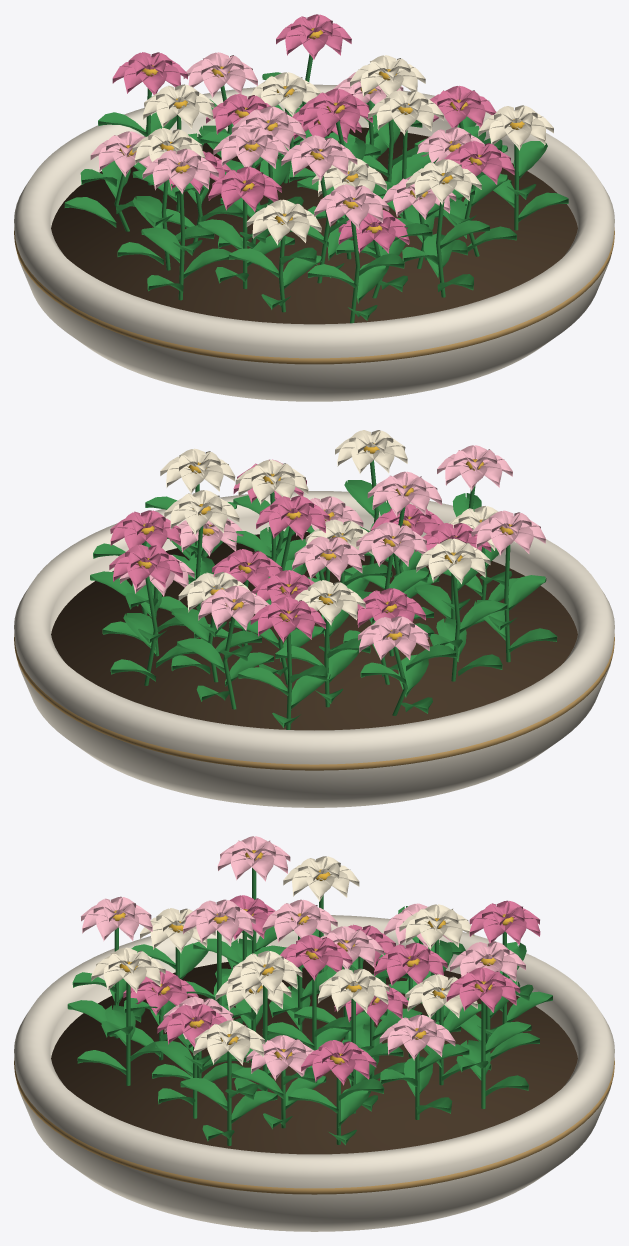
The model's file is Flowers.glb.
3 views of the same model, one above another, from view 1: azimuth 30°, elevation 25°; view 2: azimuth 150°, elevation 25°; view 3: azimuth 270°, elevation 25° (orthographic).
Visible parts, largest first — view 1: Pale Carved Stone, Planter Dark Earth, Flower Jade Foliage, Ivory Petal Silk, Blush Petal Silk, Rose Petal Silk, Aged Gold, Golden Pollen; view 2: Pale Carved Stone, Planter Dark Earth, Flower Jade Foliage, Blush Petal Silk, Rose Petal Silk, Ivory Petal Silk, Aged Gold, Golden Pollen; view 3: Pale Carved Stone, Planter Dark Earth, Flower Jade Foliage, Ivory Petal Silk, Blush Petal Silk, Rose Petal Silk, Aged Gold, Golden Pollen.
Part boxes in pixels (box(x1,y1,x2,y2)): Pale Carved Stone: box(14, 84, 614, 401); Planter Dark Earth: box(51, 127, 577, 324); Flower Jade Foliage: box(64, 54, 568, 323); Ivory Petal Silk: box(132, 55, 553, 245); Blush Petal Silk: box(90, 52, 484, 229); Rose Petal Silk: box(112, 14, 514, 253); Aged Gold: box(14, 227, 614, 364); Golden Pollen: box(119, 28, 524, 233); Pale Carved Stone: box(14, 491, 614, 807); Planter Dark Earth: box(51, 532, 577, 730); Flower Jade Foliage: box(90, 460, 557, 729); Blush Petal Silk: box(119, 445, 545, 659); Rose Petal Silk: box(109, 459, 491, 642); Ivory Petal Silk: box(160, 430, 515, 625); Aged Gold: box(14, 634, 614, 770); Golden Pollen: box(137, 443, 513, 640); Pale Carved Stone: box(14, 915, 614, 1231); Planter Dark Earth: box(51, 959, 577, 1154); Flower Jade Foliage: box(67, 868, 552, 1145); Ivory Petal Silk: box(91, 856, 477, 1065); Blush Petal Silk: box(81, 836, 525, 1080); Rose Petal Silk: box(123, 895, 540, 1085); Aged Gold: box(14, 1058, 614, 1194); Golden Pollen: box(113, 850, 513, 1064).
Bounding box in the file's own units: 3 × 1.1 × 3.
